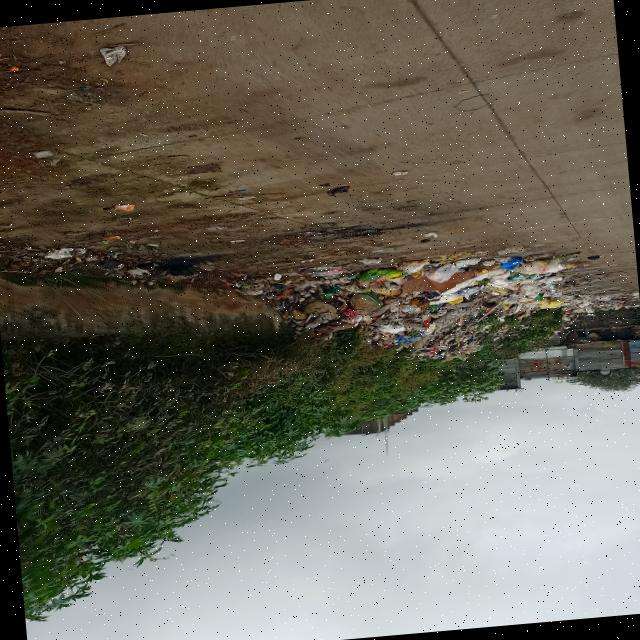garbage: (248, 242, 586, 377)
